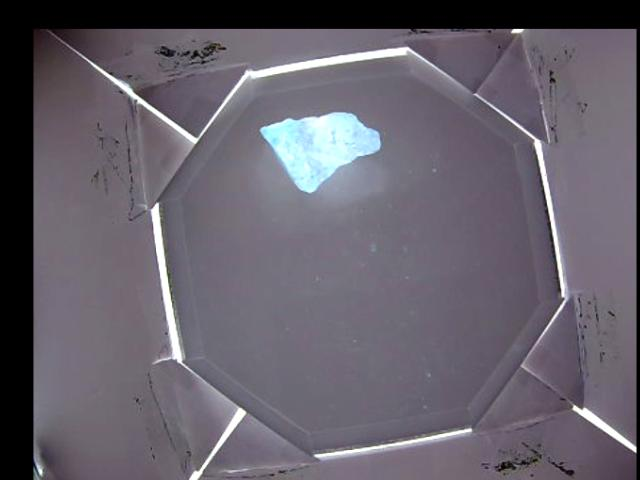Brisk: (259, 112, 380, 193)
